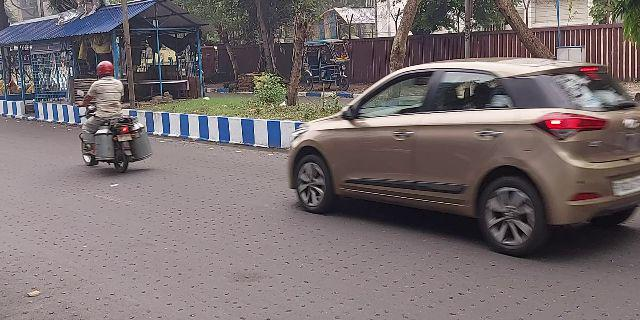Car: (283, 50, 640, 244)
Motorbike: (77, 62, 155, 183)
